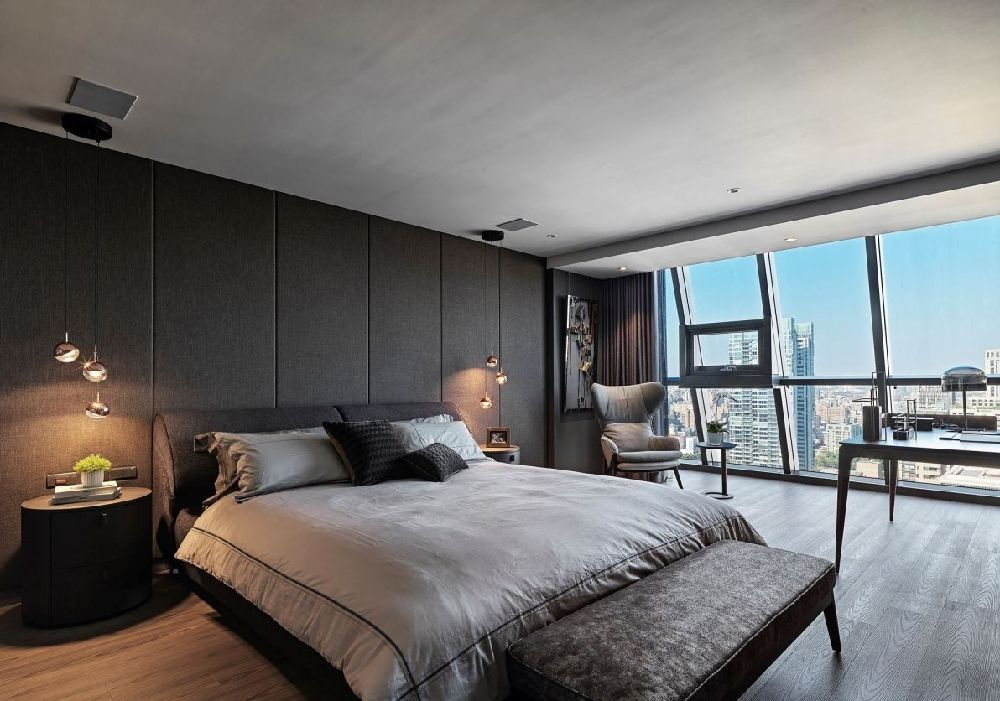床: (165, 460, 825, 698)
枕头: (192, 406, 497, 504)
灯: (53, 338, 114, 422), (474, 347, 511, 414), (720, 185, 742, 203), (545, 232, 558, 242)
